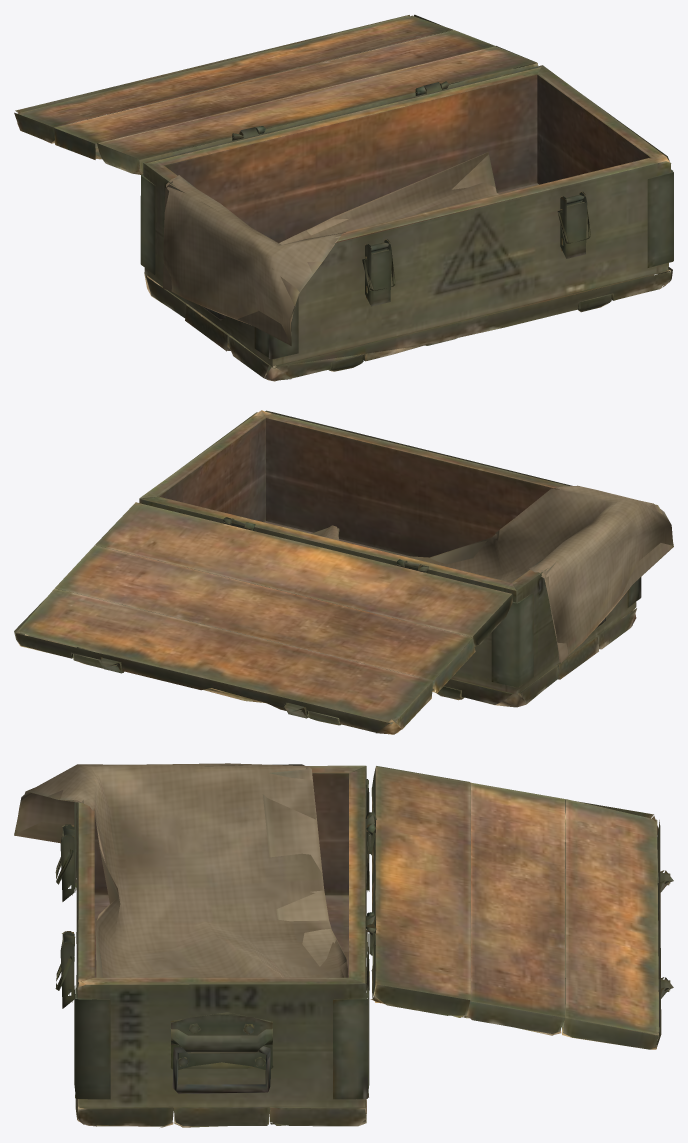
The model's file is old_military_crate_2.glb.
3 renders of one model, top to bottom at view 1: azimuth 30°, elevation 25°; view 2: azimuth 150°, elevation 25°; view 3: azimuth 270°, elevation 25°, orthographic. The views are drawn at different scales.
Visible parts, largest first — view 1: old_military_crate_2; view 2: old_military_crate_2; view 3: old_military_crate_2.
Part boxes in pixels (<box>): old_military_crate_2: <box>14,14,673,381</box>; old_military_crate_2: <box>14,410,673,734</box>; old_military_crate_2: <box>14,763,673,1127</box>.
Size of the model in its own units: 0.8136 by 0.2588 by 0.9802.
Materials: 1 (1 with a texture image).
